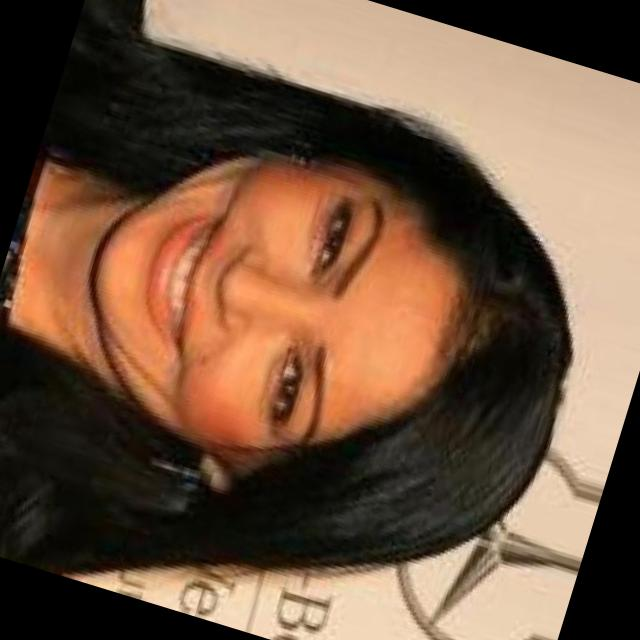bareface: (27, 91, 593, 592)
